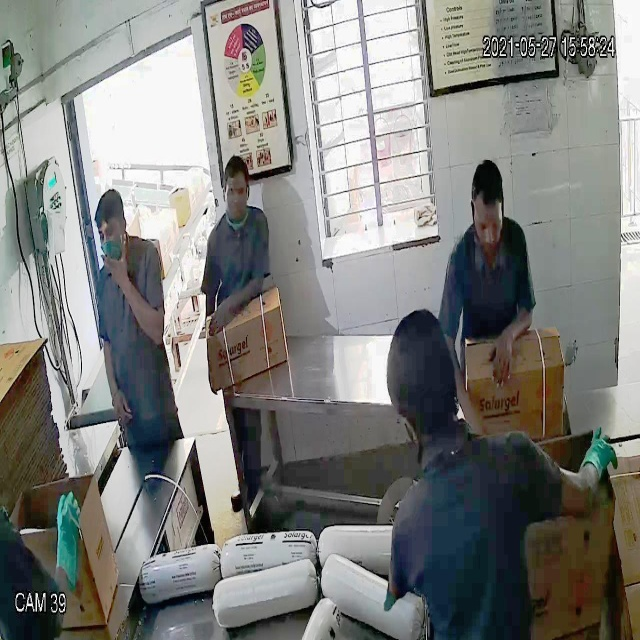Sin_gafas: (91, 216, 129, 248), (222, 180, 257, 204)
